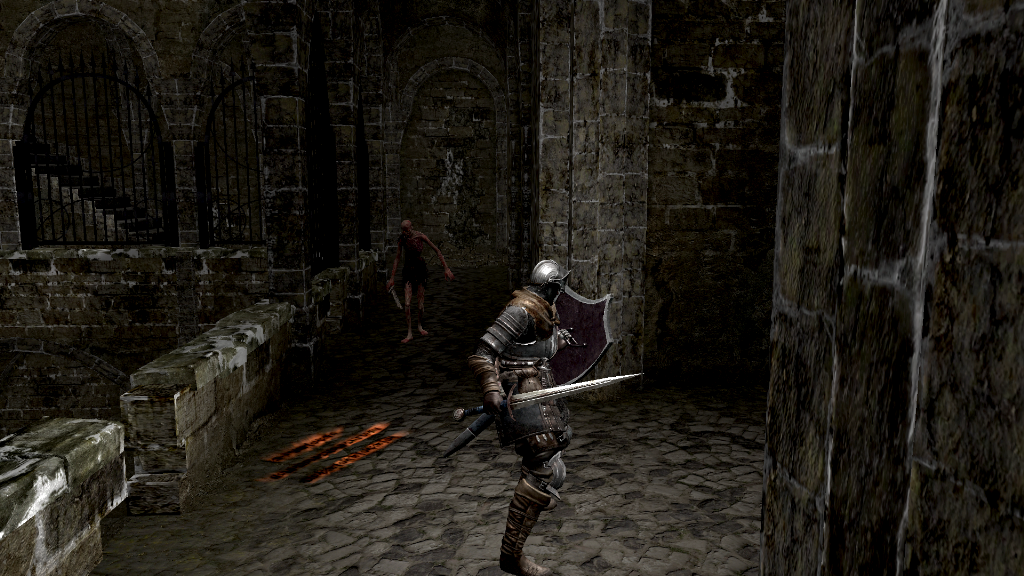hollow: (387, 220, 455, 343)
player: (450, 259, 647, 576)
